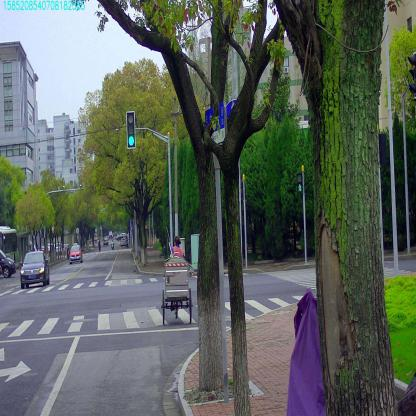traffic-light: (127, 112, 135, 147)
